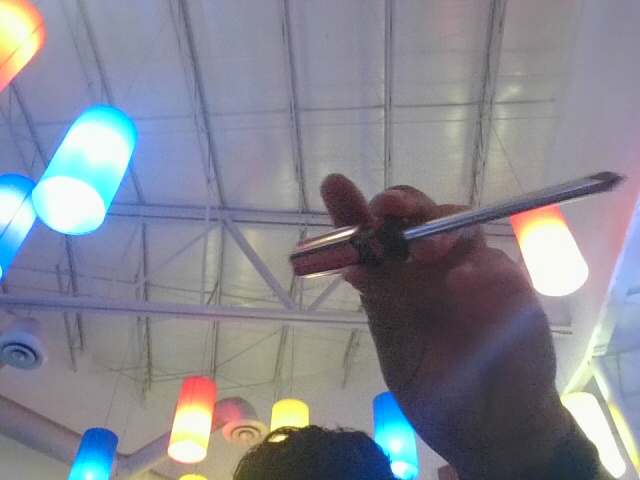destornillador: (286, 162, 633, 302)
